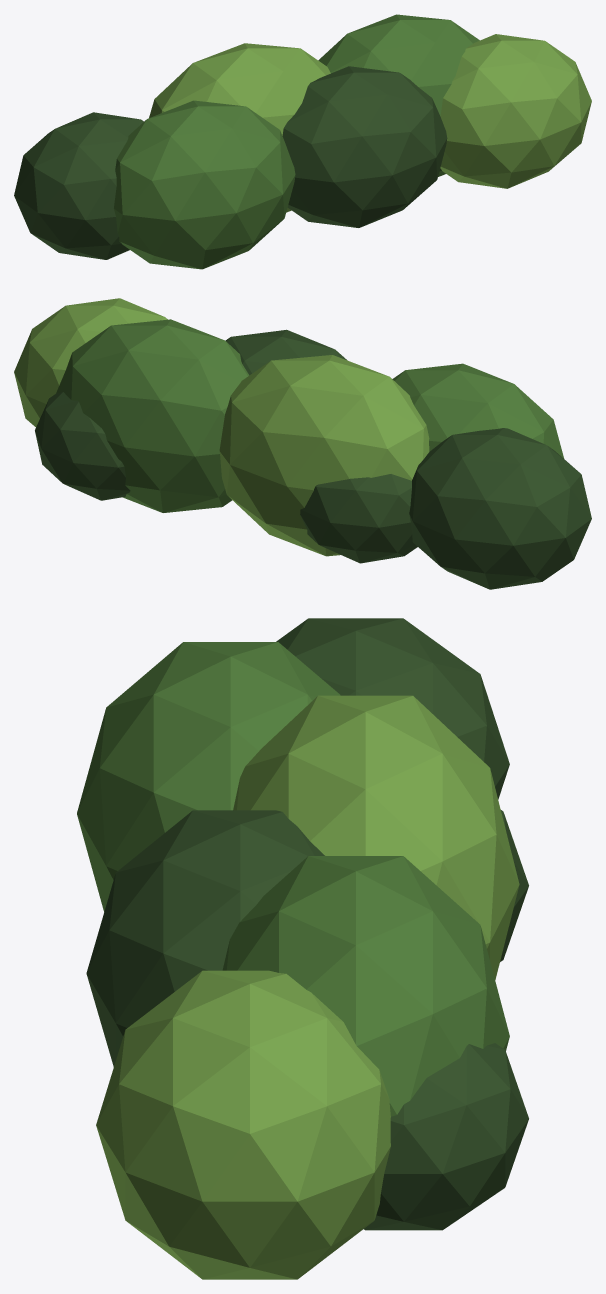
Rendered from planter-green.glb.
3 views of the same model, one above another, from view 1: azimuth 30°, elevation 25°; view 2: azimuth 150°, elevation 25°; view 3: azimuth 270°, elevation 25° (orthographic). The views are drawn at different scales.
Parts seen in each view (by area): view 1: planter-green; view 2: planter-green; view 3: planter-green.
Boxes of the visible parts, x1,y1,x2,y2 form: planter-green: [14, 14, 591, 269]; planter-green: [14, 298, 591, 589]; planter-green: [77, 618, 528, 1279].
Size of the model in its own units: 1.27 by 0.396 by 0.47.
